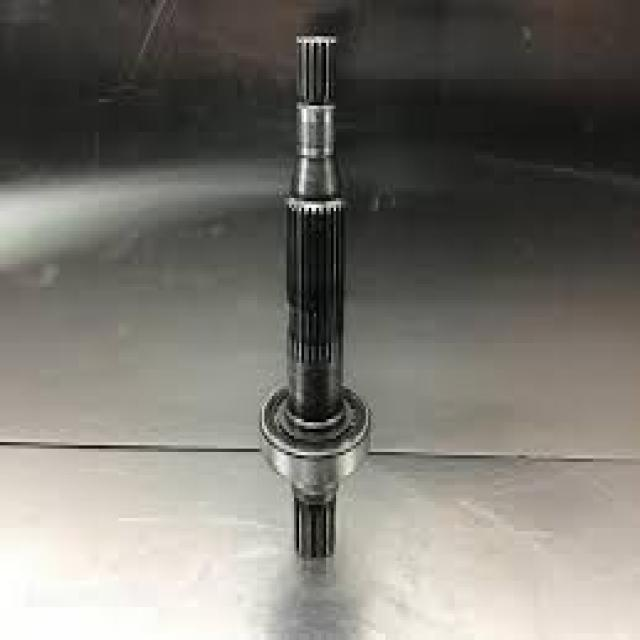Turning: (232, 18, 410, 584)
